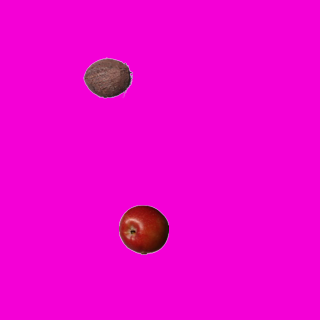Apple Braeburn: (118, 204, 168, 254)
Cocos: (82, 52, 132, 102)
